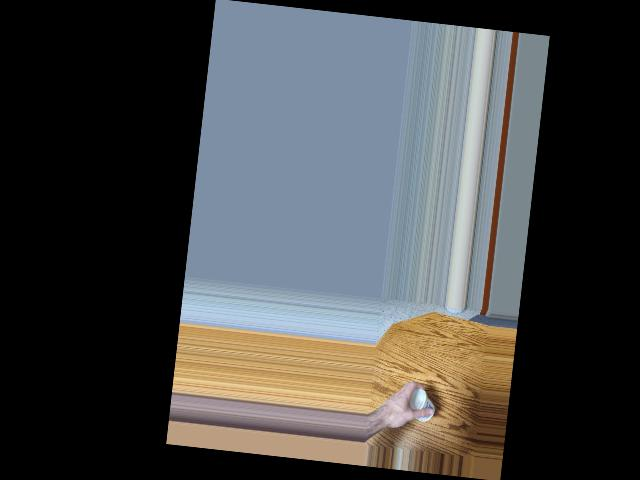cotage: (408, 381, 438, 424)
